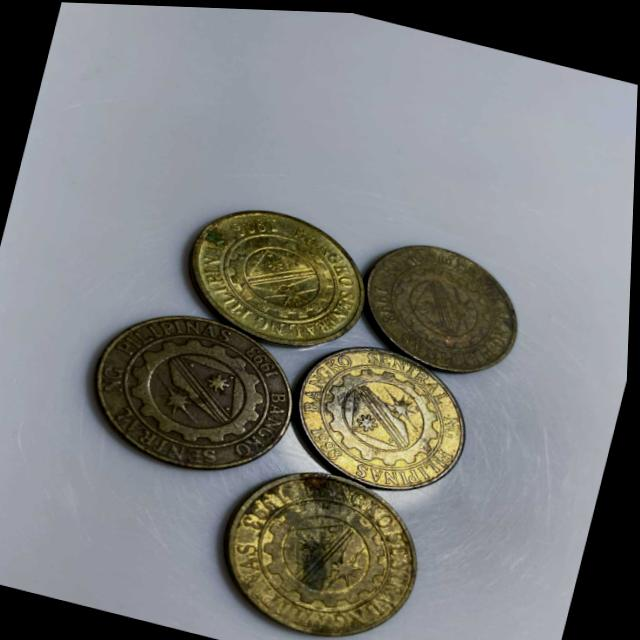25Cent_Old_Back: (73, 293, 313, 495), (205, 451, 445, 640), (285, 331, 493, 500), (177, 192, 375, 355), (347, 223, 540, 385)
